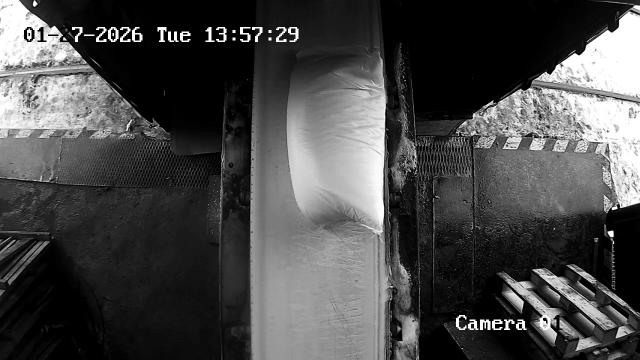bag: (288, 46, 385, 237)
